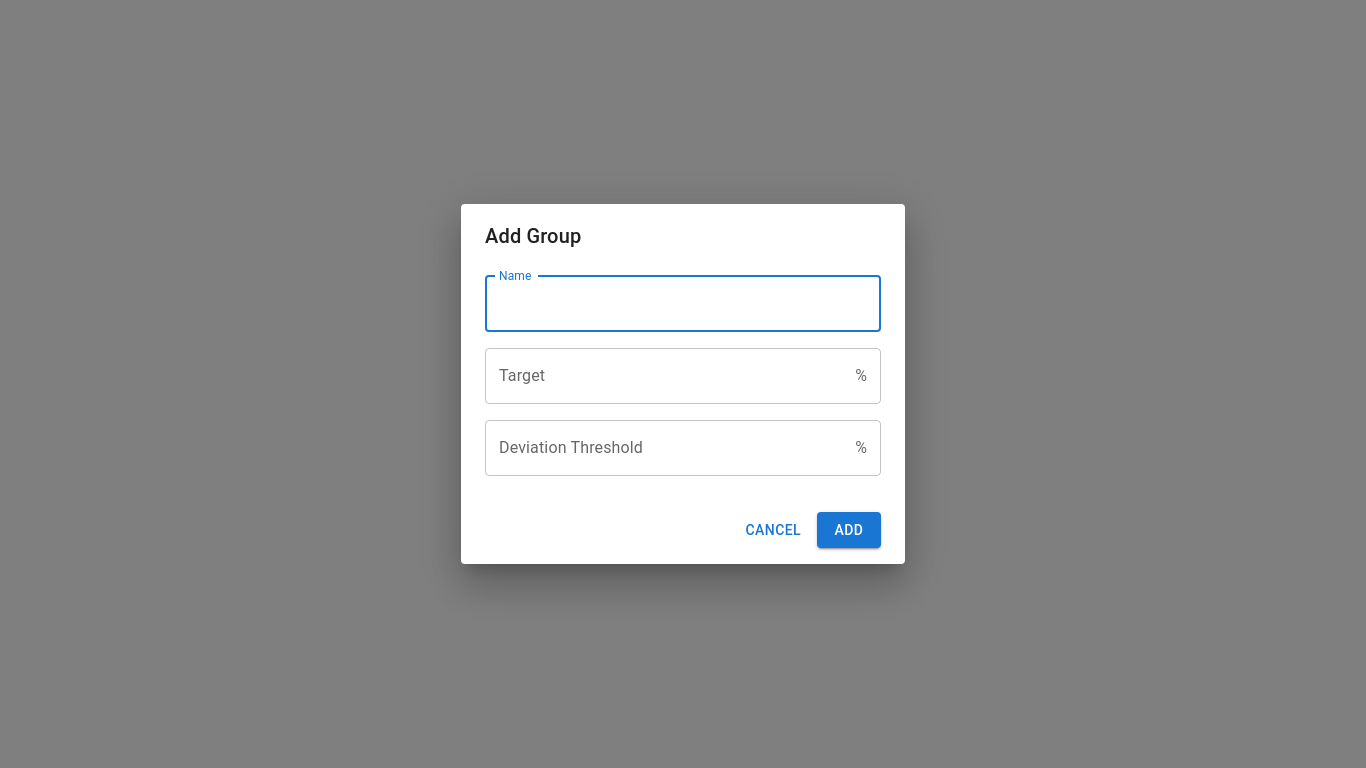
GroupDialog › shows validation error for negative deviation threshold
Type "Stocks" into the field labelled "Name".
click(683, 304); type("Stocks")  # box [485, 276, 881, 332]
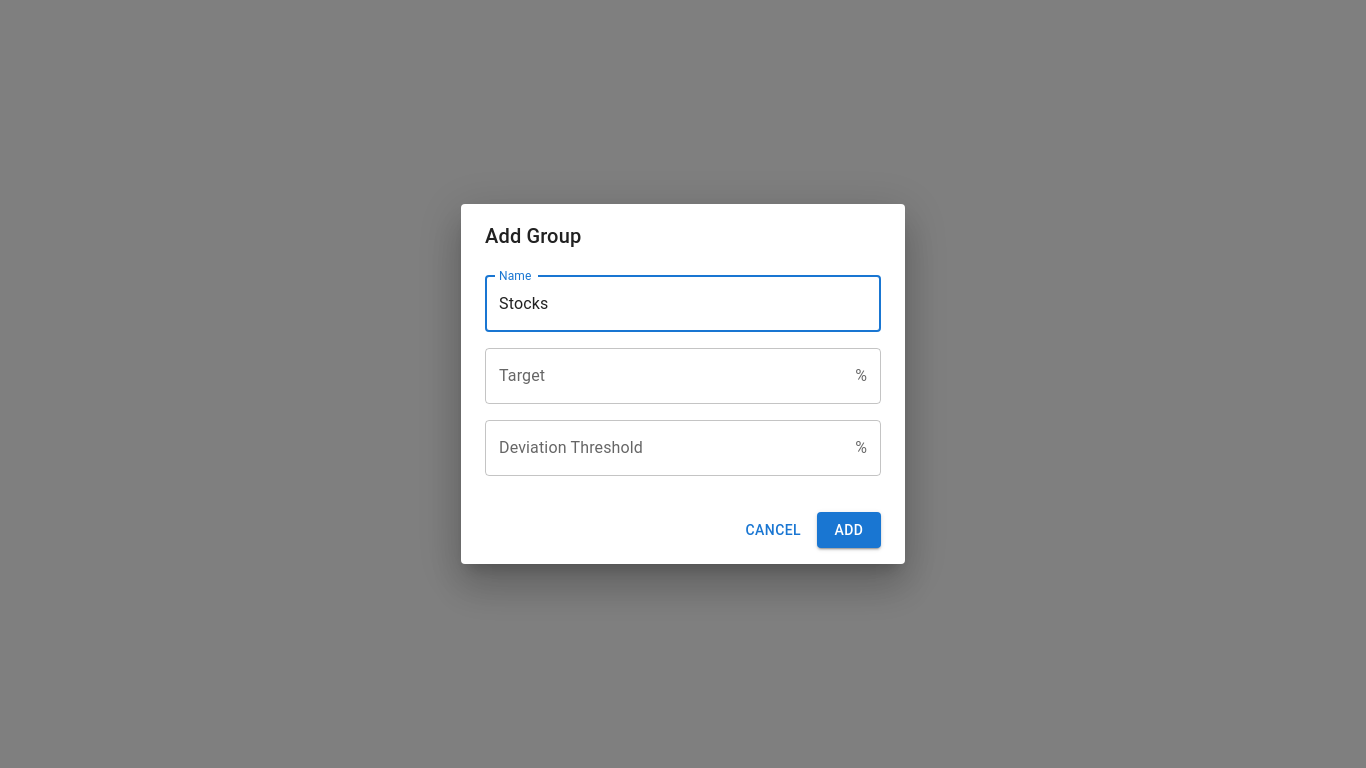
Type "50" into the number field labelled "Target".
click(666, 376); type("50")  # box [485, 348, 847, 404]
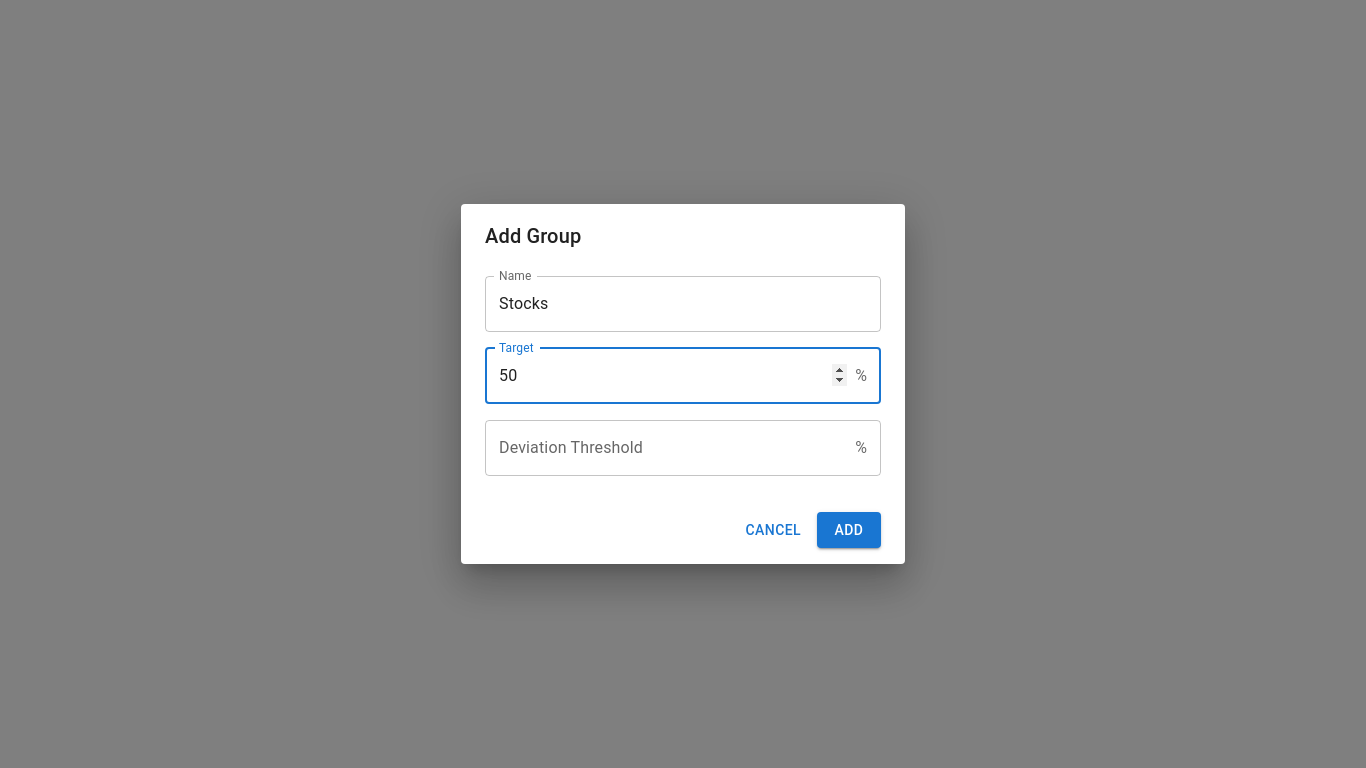
Type "-1" into the number field labelled "Deviation Threshold".
click(666, 448); type("-1")  # box [485, 420, 847, 476]
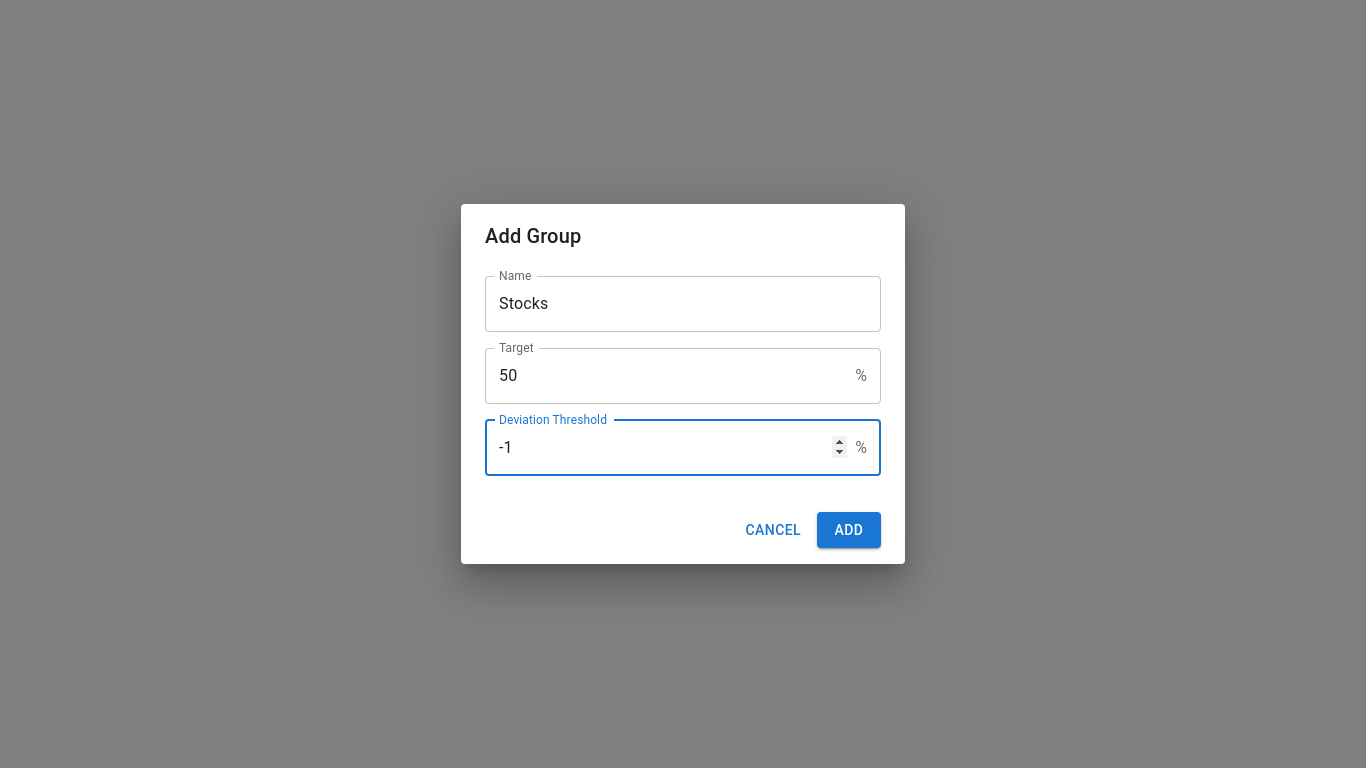
Click the button "Add".
click(849, 530)  # box [817, 512, 881, 548]
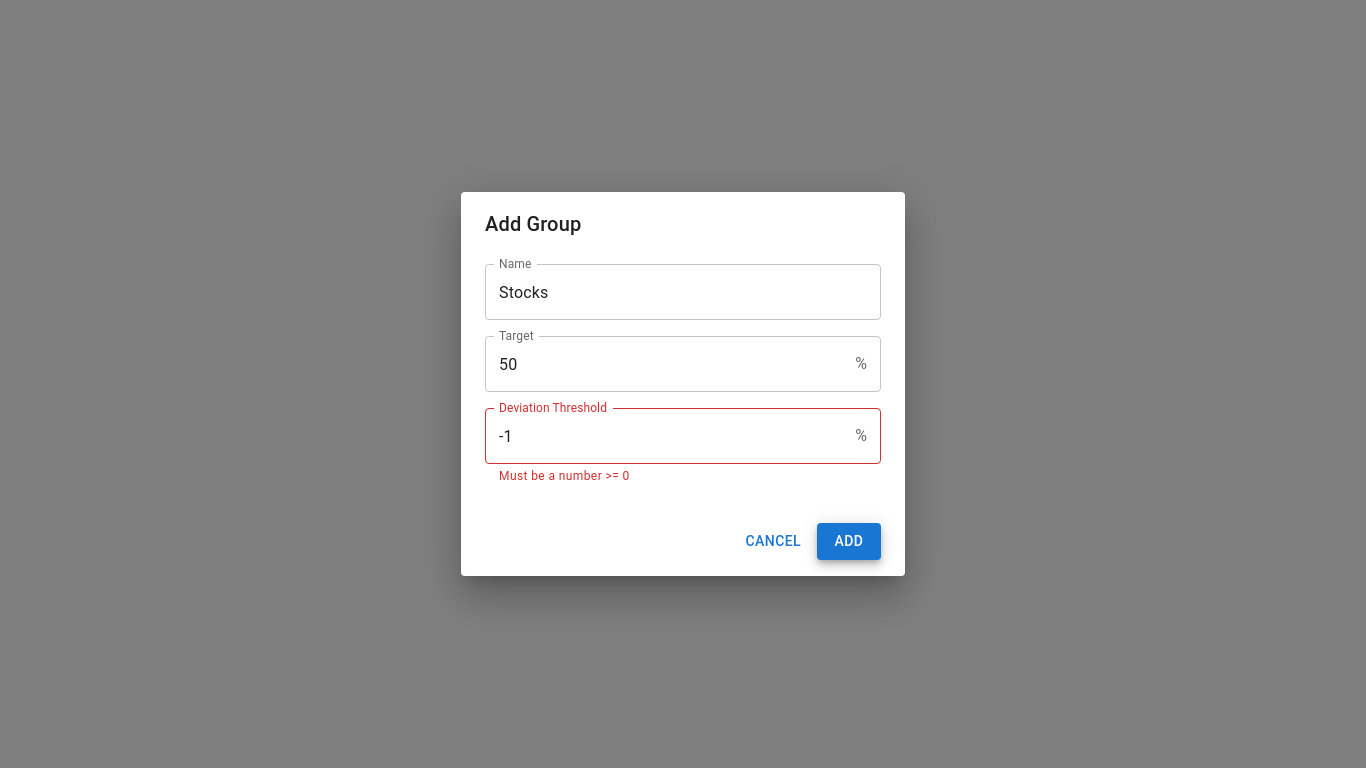
Check: the text "Must be a number >= 0" is shown, box [499, 469, 630, 483]
